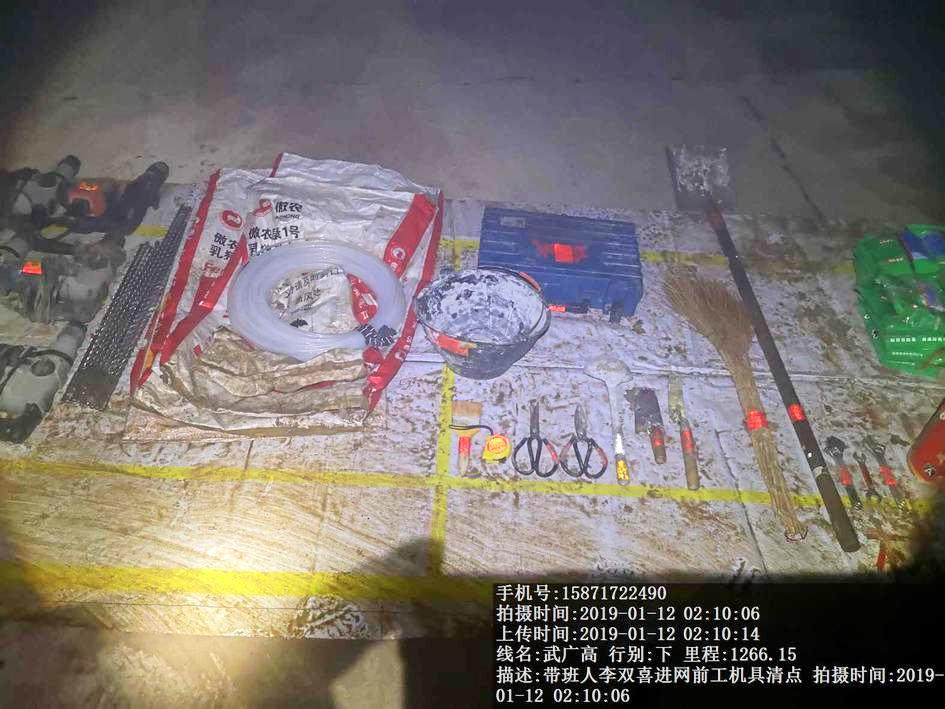SB: (673, 263, 799, 539)
SG: (229, 234, 407, 357)
SNT: (413, 268, 545, 379)
